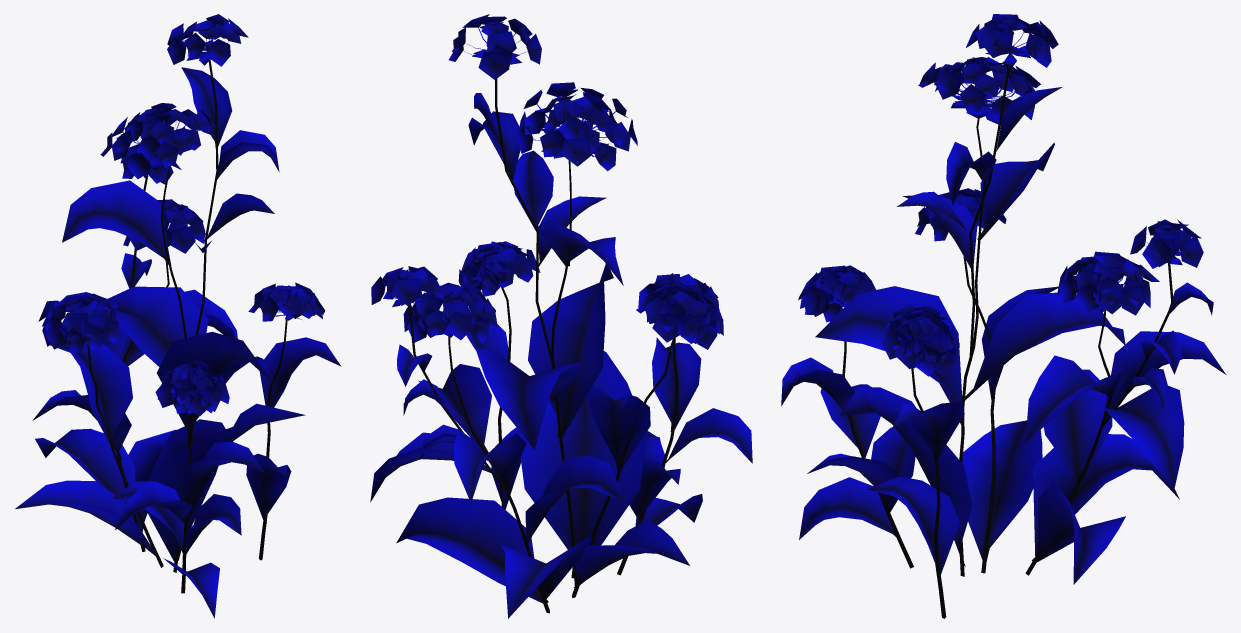
Rendered from SM_WildCarrot_03.fbx.
3 renders of one model, left to right at view 1: azimuth 30°, elevation 25°; view 2: azimuth 150°, elevation 25°; view 3: azimuth 270°, elevation 25°, orthographic. The views are drawn at different scales.
Parts seen in each view (by area): view 1: SM_WildCarrot_03_LOD0; view 2: SM_WildCarrot_03_LOD0; view 3: SM_WildCarrot_03_LOD0.
Part boxes in pixels (x1,y1,x2,y2): SM_WildCarrot_03_LOD0: (15, 14, 341, 618); SM_WildCarrot_03_LOD0: (370, 14, 752, 618); SM_WildCarrot_03_LOD0: (781, 14, 1226, 618).
Bounding box in the file's own units: 62.63 × 80.8 × 117.
